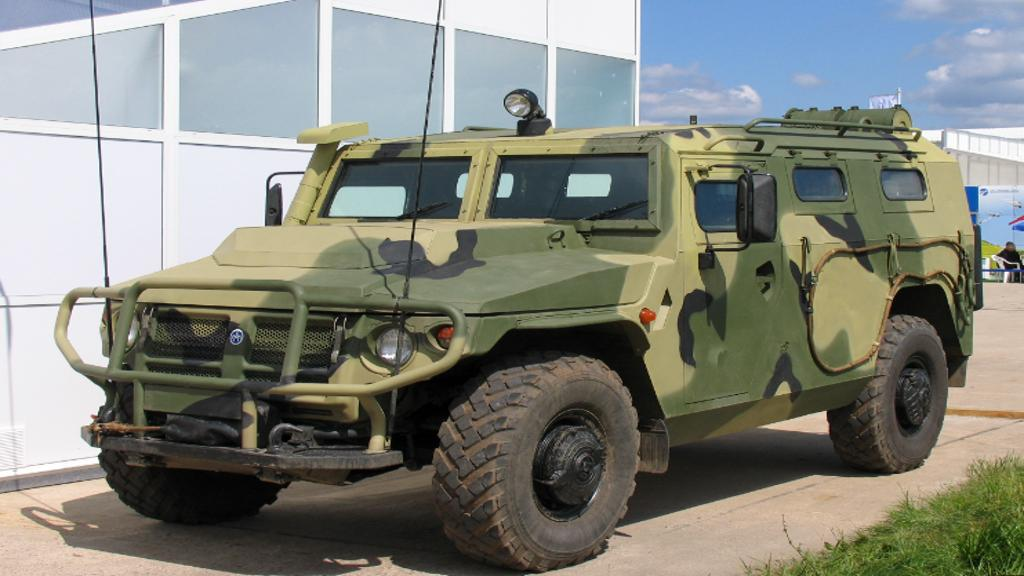CAR: (50, 89, 980, 575)
